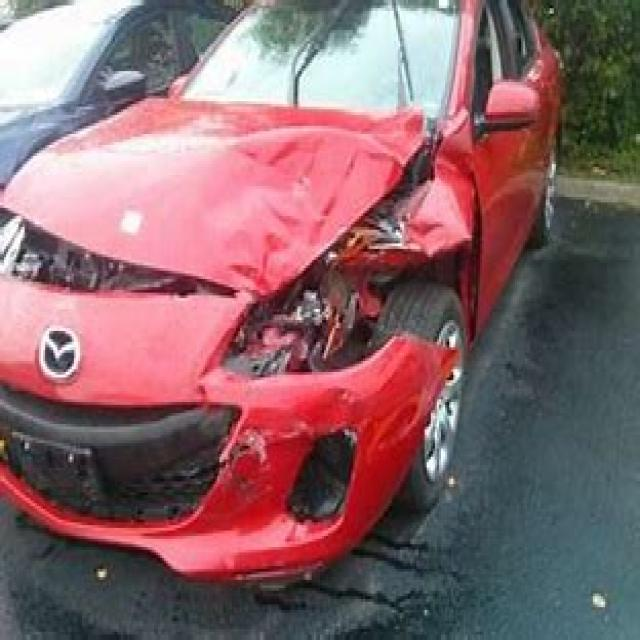Accident: (9, 28, 622, 498)
